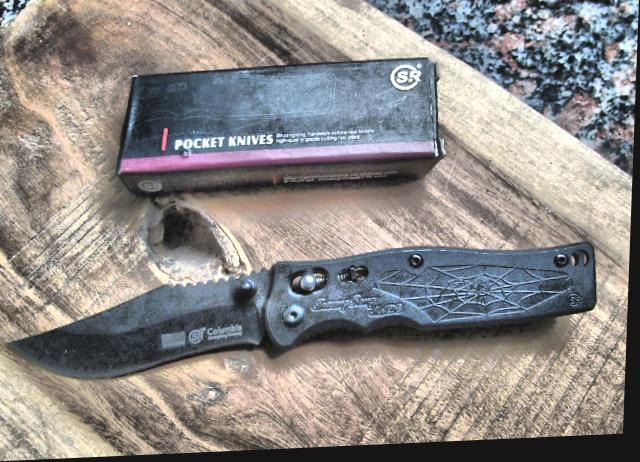knife: (2, 234, 611, 396)
